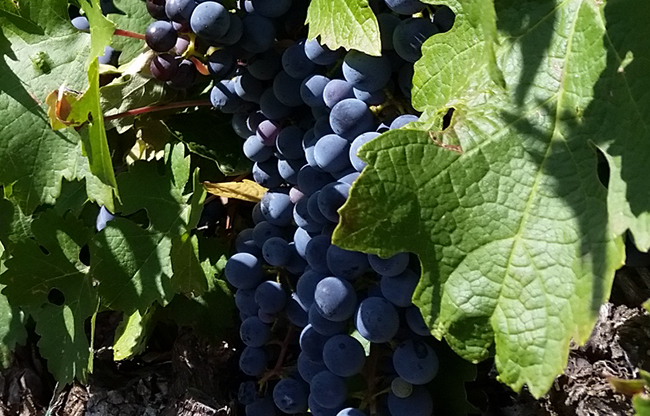Black grapes: (175, 7, 459, 416)
